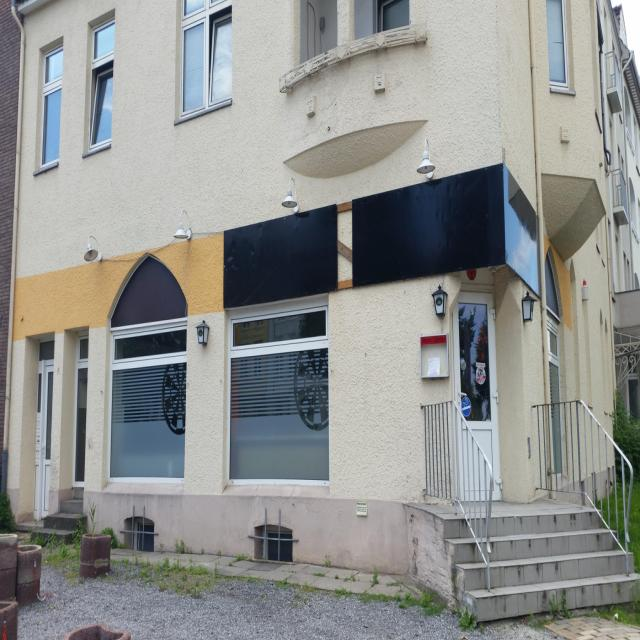AVOID: (442, 508, 638, 623)
